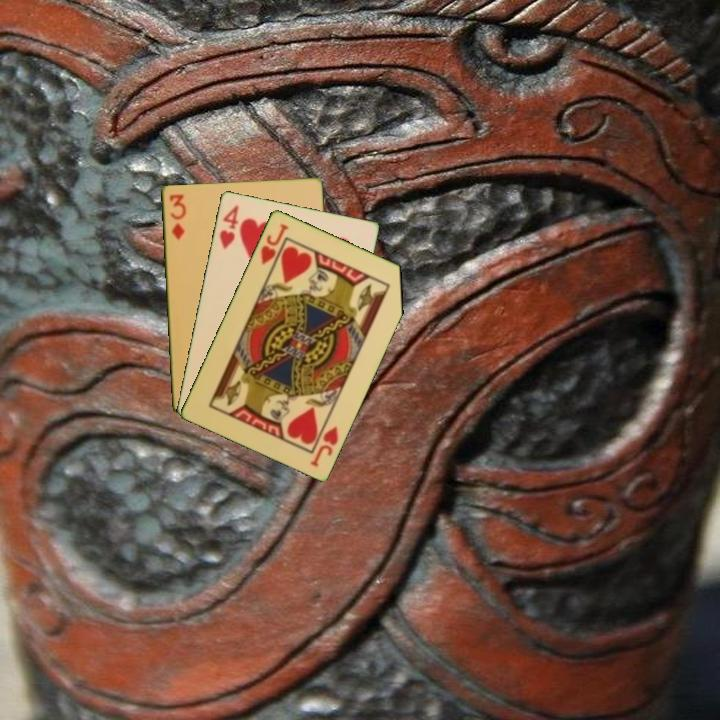3d: (166, 191, 188, 242)
4h: (216, 201, 241, 252)
Jh: (257, 219, 291, 274), (306, 422, 341, 469)
